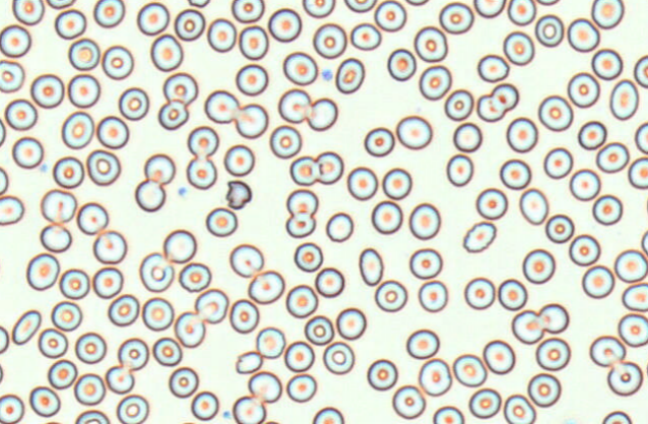PLT: (320, 67, 335, 81), (177, 185, 189, 200)
RBC: (139, 252, 174, 292), (606, 360, 643, 396), (537, 94, 573, 131), (247, 269, 285, 304), (413, 25, 448, 62), (86, 149, 121, 186), (418, 358, 452, 396), (26, 252, 59, 291), (61, 110, 94, 149), (40, 188, 76, 223), (312, 22, 347, 58), (395, 115, 432, 149), (150, 33, 183, 71), (609, 79, 639, 120), (233, 103, 268, 138), (92, 229, 127, 264), (229, 243, 264, 278), (267, 7, 302, 42), (194, 288, 228, 324), (282, 51, 318, 85), (567, 71, 600, 108), (408, 202, 440, 240), (204, 89, 239, 123), (277, 88, 311, 123), (391, 384, 425, 419), (527, 372, 561, 407), (452, 353, 487, 387), (535, 337, 570, 371), (30, 73, 64, 108), (162, 72, 198, 105), (505, 116, 538, 152), (522, 248, 555, 284), (418, 64, 451, 100), (438, 1, 474, 34), (589, 335, 626, 367), (511, 309, 544, 344), (247, 370, 282, 403), (614, 248, 647, 283), (482, 339, 515, 374), (67, 73, 100, 108), (141, 296, 174, 331), (567, 17, 600, 52), (101, 44, 133, 80), (174, 311, 205, 348), (518, 187, 548, 225), (163, 229, 196, 263), (269, 124, 302, 158), (285, 284, 318, 318), (136, 1, 169, 35), (96, 115, 129, 149), (581, 264, 614, 298), (335, 57, 365, 94), (235, 63, 268, 96), (374, 279, 407, 312), (475, 187, 508, 220), (306, 97, 338, 131), (462, 221, 496, 253), (346, 166, 378, 200), (76, 201, 108, 235), (371, 200, 403, 234), (408, 247, 442, 279), (595, 141, 629, 173), (617, 312, 648, 347), (503, 30, 534, 65), (11, 309, 41, 345), (468, 387, 501, 419), (322, 341, 354, 374), (52, 155, 84, 188), (117, 337, 149, 370), (73, 372, 105, 405), (11, 136, 43, 169), (68, 37, 100, 70), (569, 168, 601, 201), (463, 276, 495, 309), (568, 233, 600, 266), (74, 331, 106, 364), (107, 293, 139, 326), (4, 98, 37, 130), (134, 178, 165, 212), (118, 86, 149, 120), (238, 25, 268, 60), (229, 298, 259, 333), (143, 153, 175, 185), (187, 125, 219, 157), (366, 358, 398, 390), (591, 48, 623, 80), (186, 156, 217, 189), (406, 328, 439, 359), (178, 261, 211, 292), (0, 24, 31, 57), (335, 307, 366, 340), (174, 8, 205, 41), (207, 17, 236, 52), (223, 144, 254, 176), (205, 206, 237, 237), (54, 8, 86, 39), (374, 0, 406, 31), (363, 126, 395, 157), (417, 280, 448, 312), (499, 158, 531, 189), (168, 366, 199, 398), (29, 385, 60, 417), (50, 300, 82, 331), (92, 266, 123, 298), (382, 167, 412, 200), (503, 393, 536, 423), (386, 48, 416, 81), (543, 146, 573, 179), (534, 14, 564, 47), (358, 247, 383, 286), (538, 302, 569, 333), (37, 327, 68, 358), (59, 268, 90, 299), (592, 194, 623, 225), (285, 373, 317, 403), (255, 326, 285, 358), (284, 340, 314, 372), (497, 278, 527, 310), (314, 151, 343, 184), (39, 223, 72, 252), (444, 88, 473, 121), (116, 394, 149, 423), (591, 0, 624, 29), (232, 395, 266, 423), (157, 100, 188, 130), (452, 121, 482, 152), (304, 314, 334, 345), (314, 266, 344, 297), (286, 188, 318, 217), (477, 53, 509, 82), (445, 153, 473, 186), (293, 242, 323, 272), (47, 359, 77, 389), (152, 336, 182, 366), (577, 120, 607, 150), (93, 0, 125, 28), (289, 155, 318, 185), (105, 364, 134, 394), (190, 390, 219, 420), (545, 213, 574, 243), (325, 211, 353, 242), (350, 22, 381, 50), (476, 93, 505, 122), (0, 59, 24, 93), (621, 282, 648, 312), (12, 0, 44, 25), (490, 82, 518, 110), (285, 213, 316, 238), (231, 0, 264, 23), (0, 194, 24, 225), (507, 0, 536, 25), (0, 393, 24, 423), (627, 156, 647, 189), (302, 0, 335, 18), (432, 405, 464, 423), (473, 0, 505, 18), (312, 406, 344, 423), (74, 409, 110, 424), (633, 54, 647, 88), (634, 121, 648, 154), (601, 410, 632, 423), (343, 0, 376, 12), (46, 0, 76, 9), (0, 325, 9, 354), (0, 165, 8, 195), (641, 228, 648, 256), (0, 117, 6, 147), (187, 0, 210, 7), (561, 416, 581, 424), (405, 0, 429, 6), (536, 0, 560, 6), (0, 253, 3, 283), (0, 362, 4, 384), (261, 420, 282, 424), (645, 352, 648, 377), (39, 421, 63, 424), (177, 421, 198, 424), (646, 193, 648, 218)
Schistocyte: (225, 182, 255, 210), (235, 352, 264, 373)
